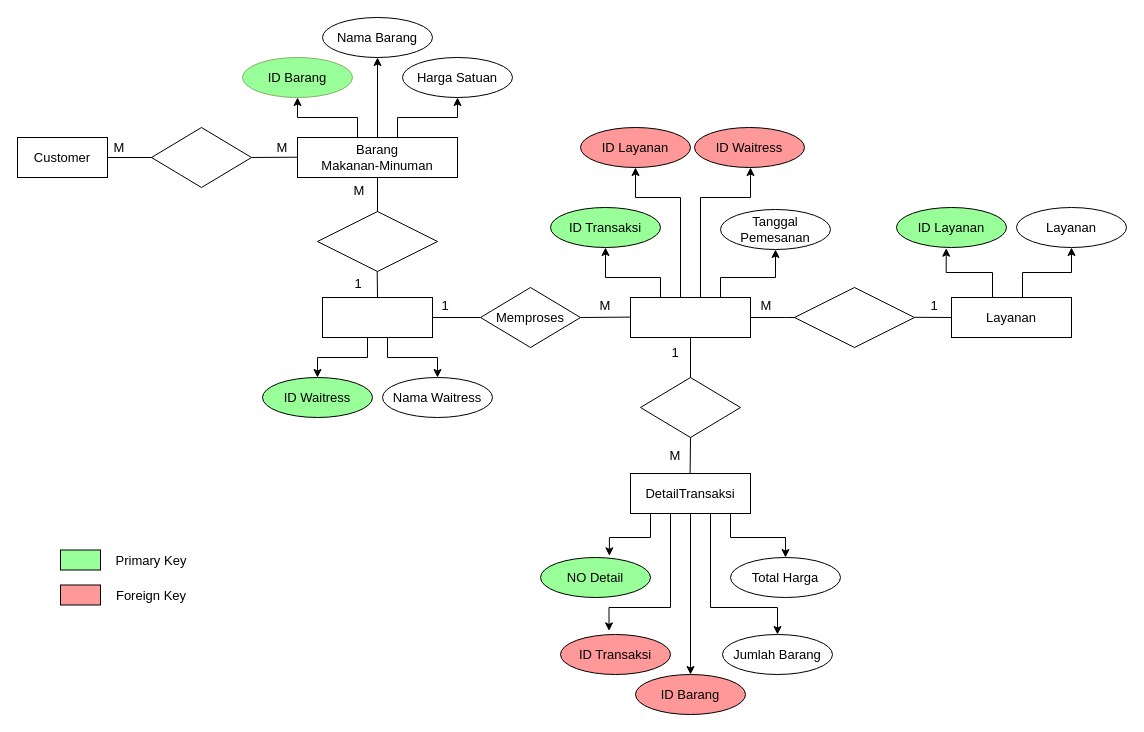
The diagram is 1144 pixels wide and 732 high, and some of its shapes have lost their labels. Each missing label, with the centre of its shape:
Diproses: (377,241)
Memesan: (201,157)
Memiliki: (690,407)
Menggunakan: (854,317)
Struk Transaksi: (690,317)
Waitress: (377,317)
